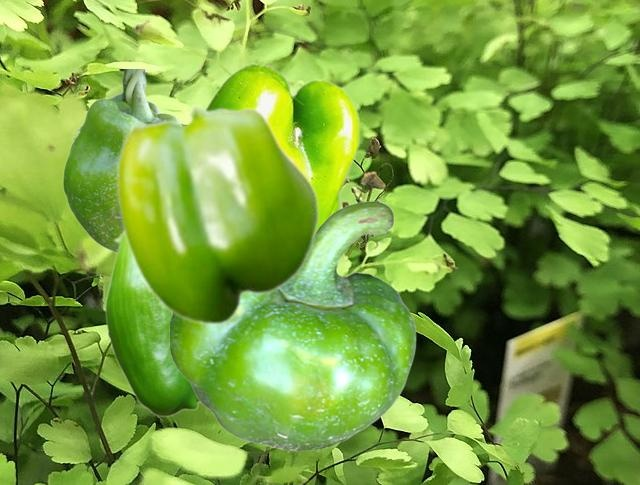bell_pepper: (169, 200, 415, 450), (116, 104, 319, 325), (205, 62, 359, 224), (62, 69, 177, 252), (104, 232, 200, 416)
